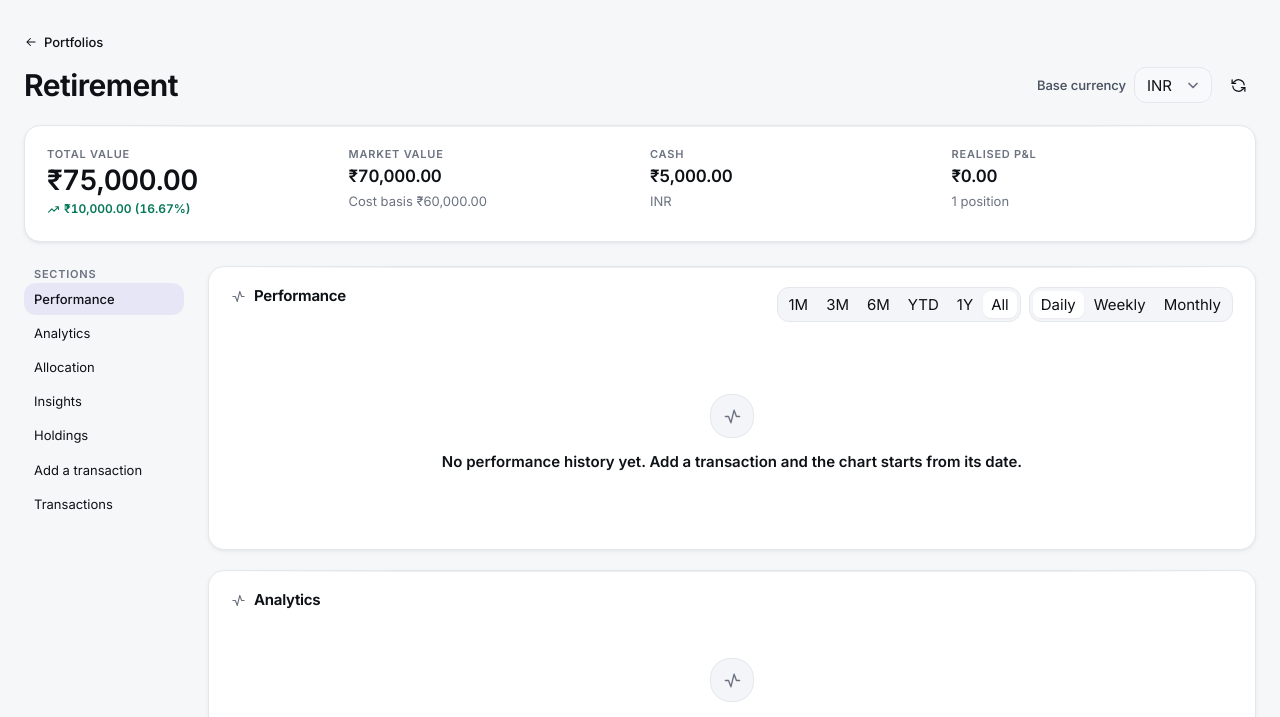
PortfolioDetail › switching the base currency PATCHes the portfolio and reloads every data source, including allocation
The image size is (1280, 717).
expect the heading "Retirement" is shown: met, box [24,67,178,105]
Select "USD" in the dropdown labelled "Base currency" at point(1173, 85), box [1134,67,1212,103]
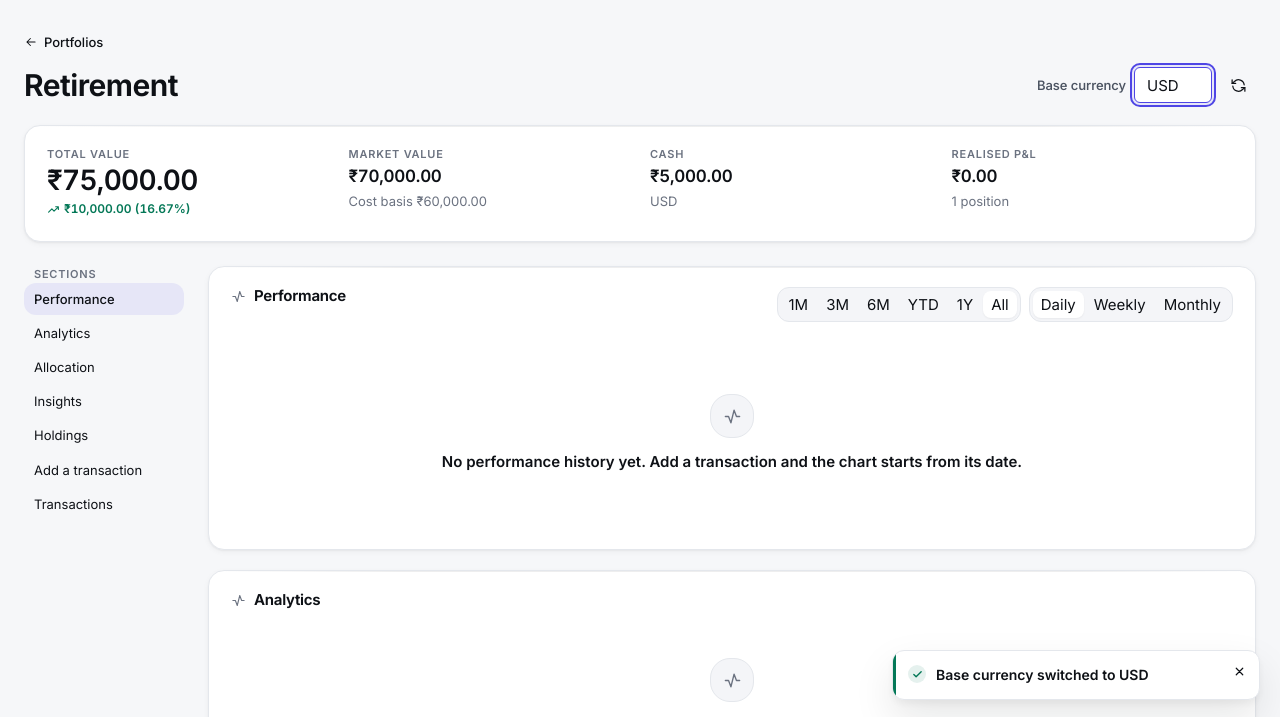
expect the text "Base currency switched to USD" is shown: met, box [936,664,1148,686]
